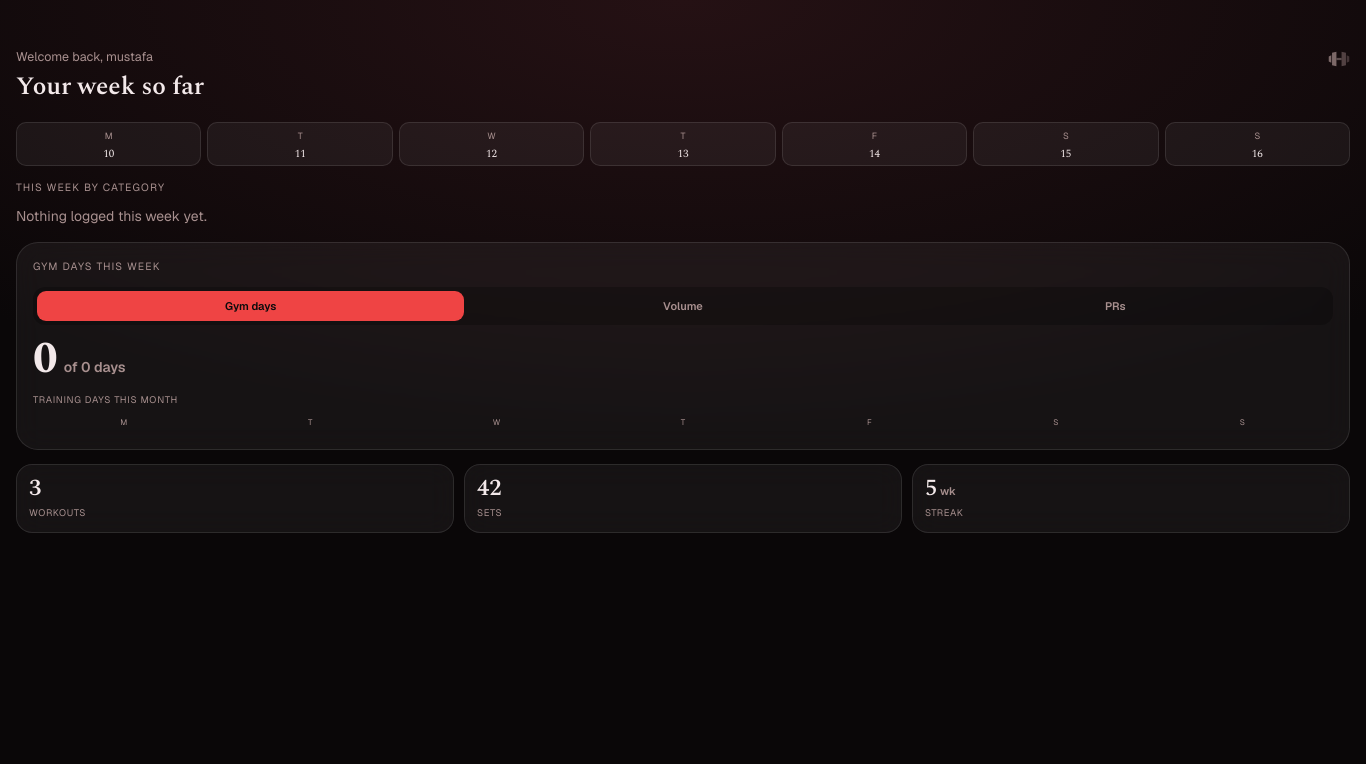
it: DashboardView, hidden categories › keeps a hidden label off the picker
Click the button with test id "day-2026-08-13" at [683, 144], box [590,122,776,166]
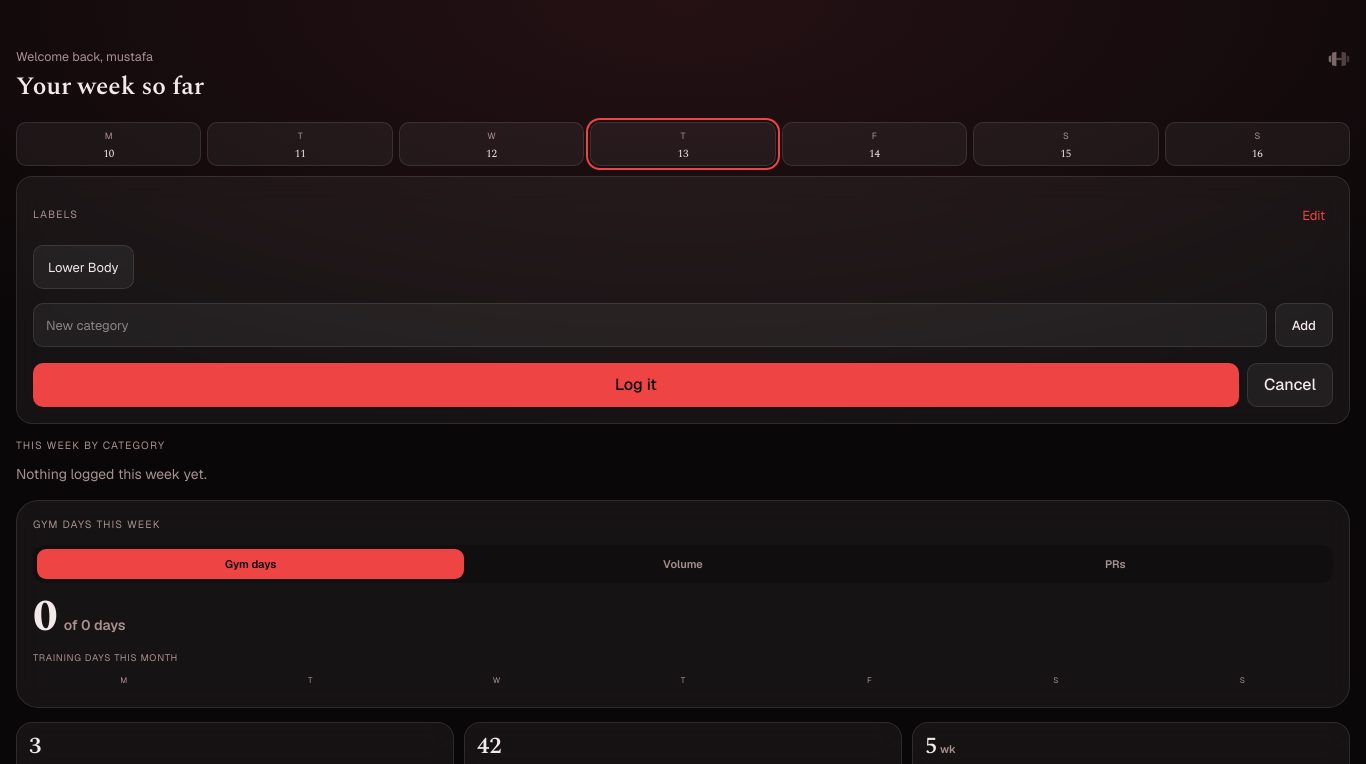
Expected: the button "Lower Body" is shown, [33,245,134,289]
